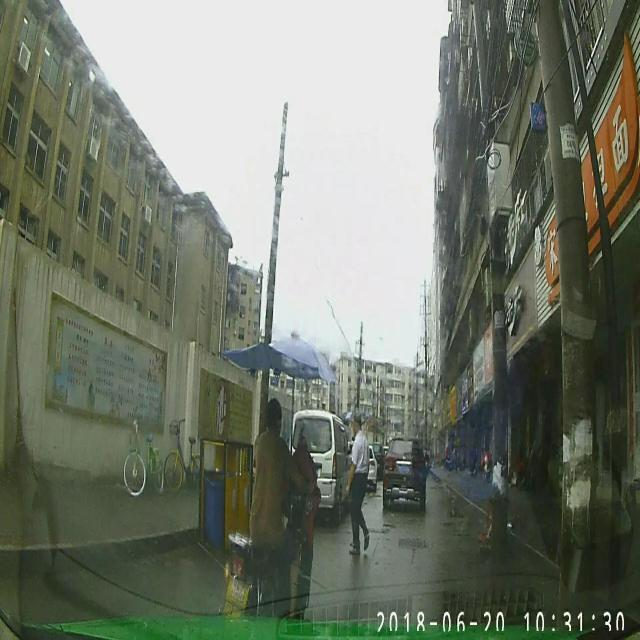car: (290, 398, 354, 531), (382, 434, 426, 512), (351, 434, 376, 496)
